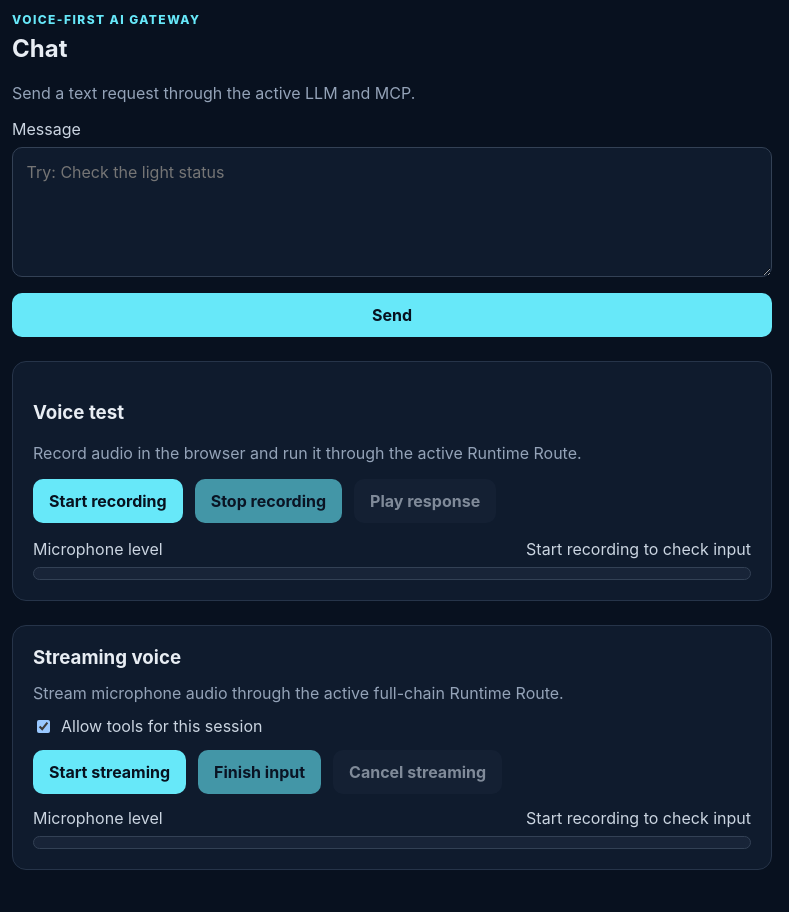
Scenario: ChatPage › cancels an active run and suppresses the aborted request error
Type "Check the light status" into the text box labelled "Message" at (392,212), box [12,147,772,277]
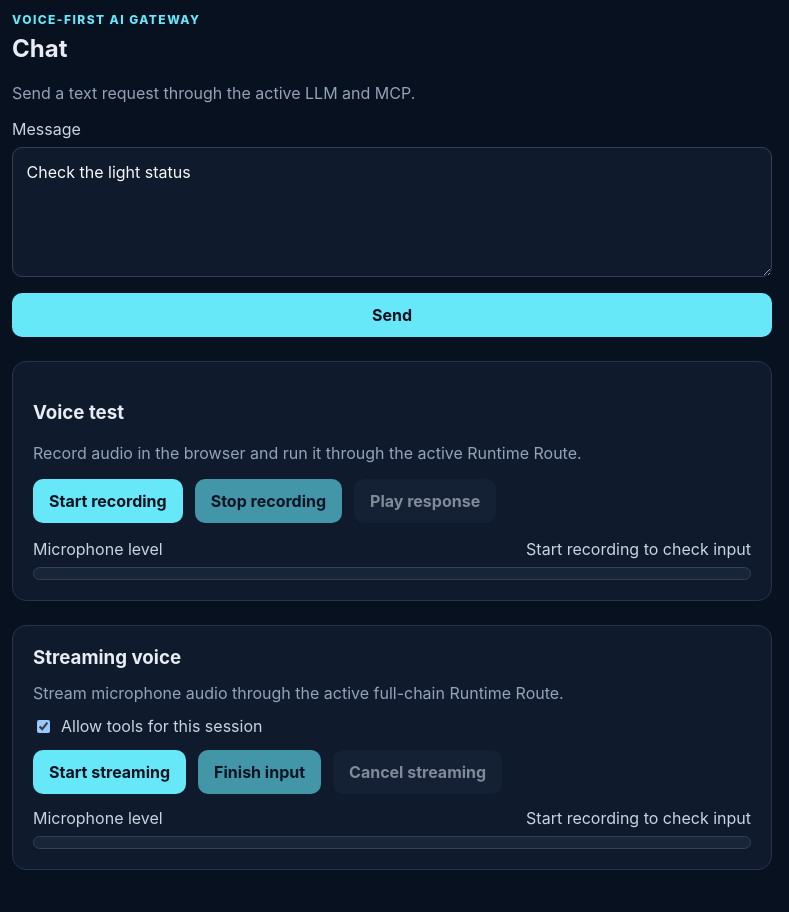
Click the button "Send" at (392,315), box [12,293,772,337]
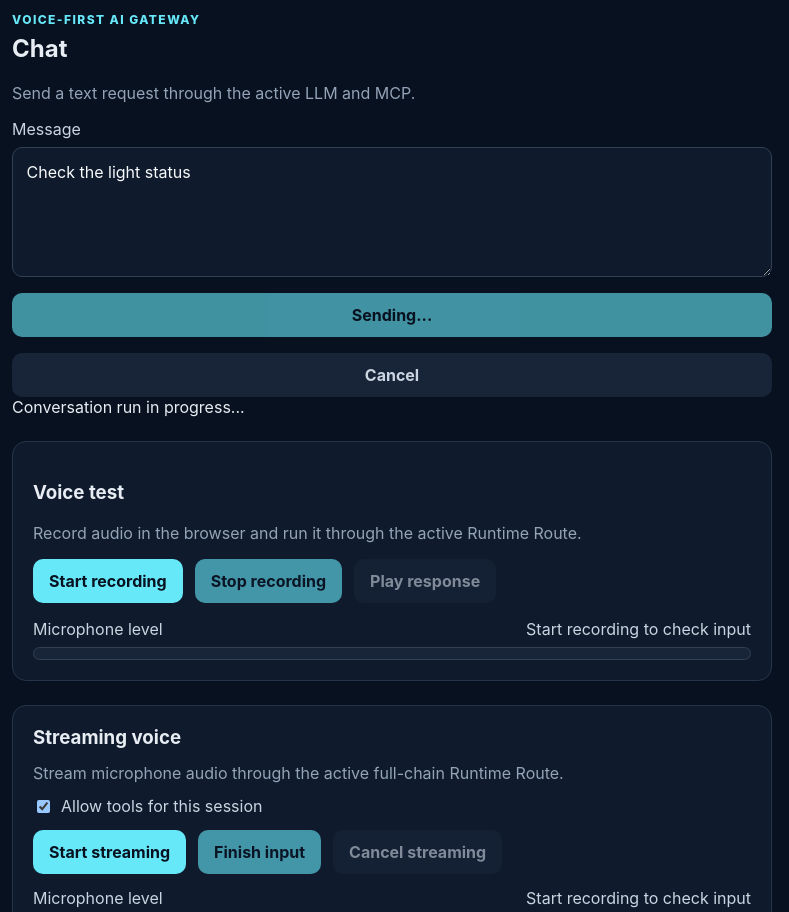
Click the button "Cancel" at (392,375), box [12,353,772,397]
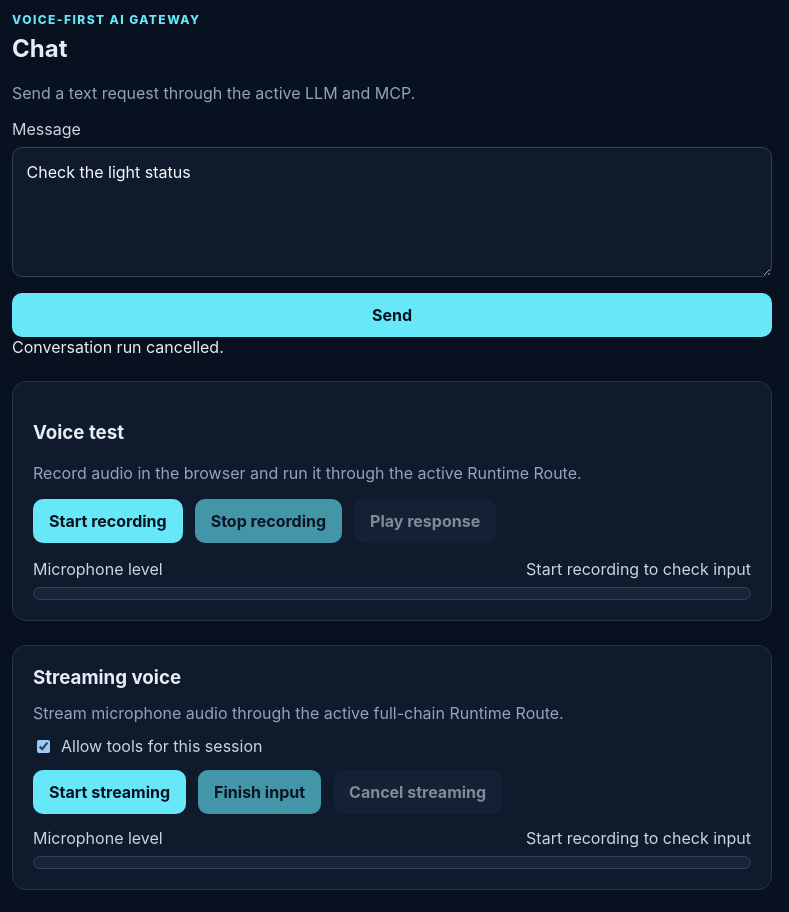
Result: the text "Conversation run cancelled." is shown at [12,337,224,357]
